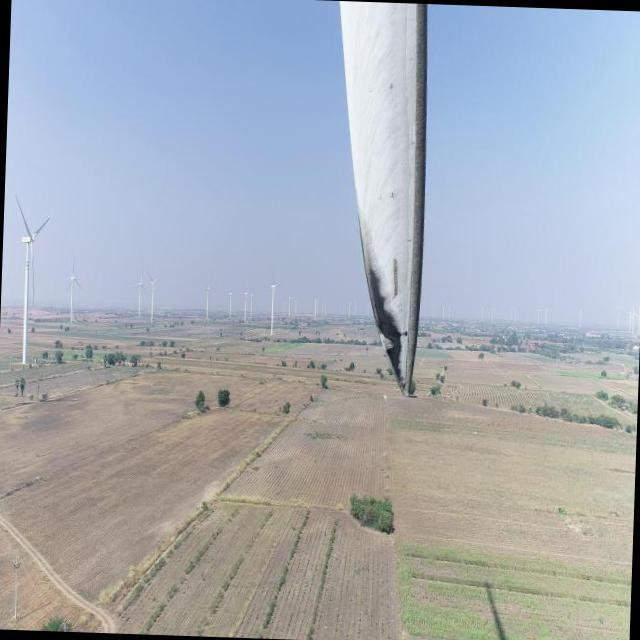Dirt: (338, 0, 431, 393)
Oil LEAKAGE: (366, 268, 409, 394)
Pin Hole: (388, 188, 402, 202), (385, 77, 398, 91), (401, 328, 414, 340)
